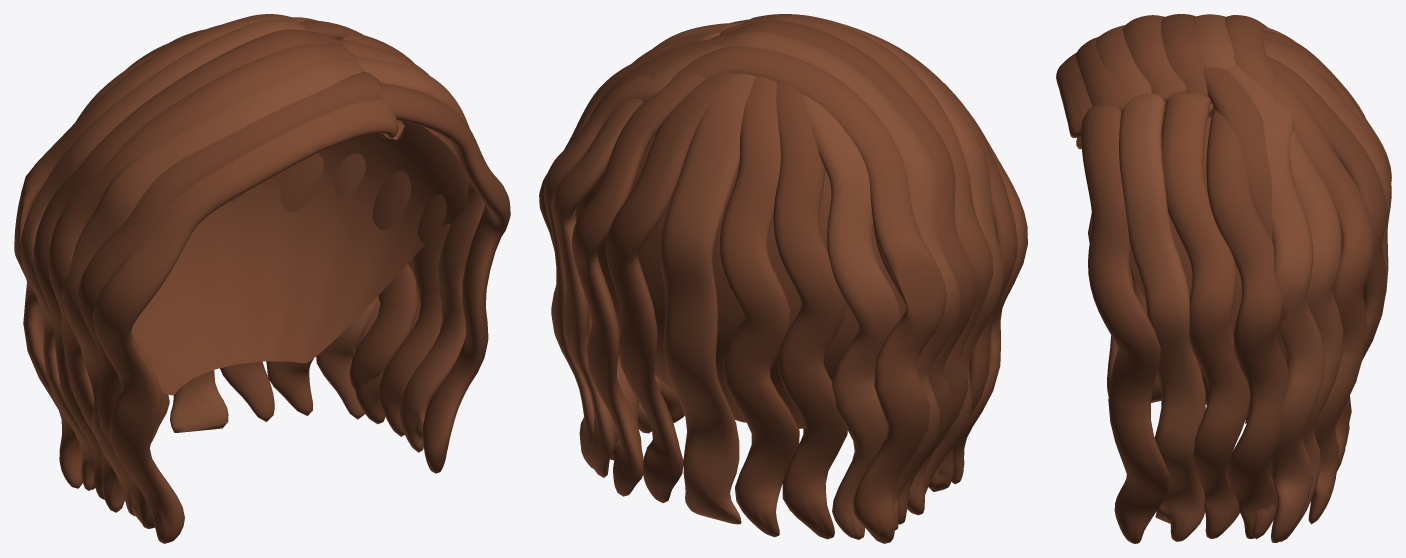
Rendered from Feminine-curls-pashmina261-hair.glb.
The picture shows the model from 3 angles, left to right: view 1: azimuth 30°, elevation 25°; view 2: azimuth 150°, elevation 25°; view 3: azimuth 270°, elevation 25°; orthographic projection.
Visible parts, largest first — view 1: 226 hair / Hair / sculpted 0.001, 226 hair / Hair / sculpted 1.001, 226 hair / Hair / sculpted 1.002, 226 hair / Hair / sculpted 2.001; view 2: 226 hair / Hair / sculpted 2.001, 226 hair / Hair / sculpted 0.001, 226 hair / Hair / sculpted 1.002, 226 hair / Hair / sculpted 1.001; view 3: 226 hair / Hair / sculpted 1.002, 226 hair / Hair / sculpted 2.001, 226 hair / Hair / sculpted 0.001, 226 hair / Hair / sculpted 1.001.
Boxes of the visible parts, x1=… form: 226 hair / Hair / sculpted 0.001: x1=14, y1=14, x2=450, y2=543; 226 hair / Hair / sculpted 1.001: x1=131, y1=122, x2=468, y2=395; 226 hair / Hair / sculpted 1.002: x1=33, y1=20, x2=510, y2=528; 226 hair / Hair / sculpted 2.001: x1=20, y1=17, x2=484, y2=516; 226 hair / Hair / sculpted 2.001: x1=543, y1=14, x2=1003, y2=539; 226 hair / Hair / sculpted 0.001: x1=572, y1=14, x2=1027, y2=543; 226 hair / Hair / sculpted 1.002: x1=539, y1=14, x2=1017, y2=539; 226 hair / Hair / sculpted 1.001: x1=575, y1=133, x2=905, y2=428; 226 hair / Hair / sculpted 1.002: x1=1076, y1=14, x2=1386, y2=543; 226 hair / Hair / sculpted 2.001: x1=1095, y1=14, x2=1391, y2=542; 226 hair / Hair / sculpted 0.001: x1=1056, y1=15, x2=1391, y2=538; 226 hair / Hair / sculpted 1.001: x1=1129, y1=115, x2=1250, y2=423.
Bounding box in the file's own units: 1.09 × 1.12 × 0.769.
